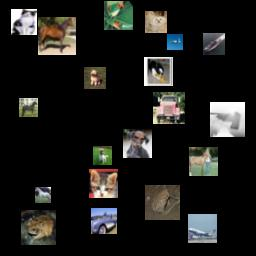airplane: (210, 102, 245, 137), (188, 214, 217, 243), (167, 34, 183, 50)
automobile: (91, 208, 117, 234)
cat: (89, 169, 118, 198), (11, 9, 37, 35)
dog: (144, 57, 173, 86), (123, 129, 152, 158), (84, 67, 106, 89), (145, 11, 167, 33), (93, 146, 112, 165)
frog: (21, 210, 56, 245), (145, 185, 180, 220), (104, 1, 133, 30)
ship: (203, 33, 225, 55)
truck: (153, 92, 185, 124)
